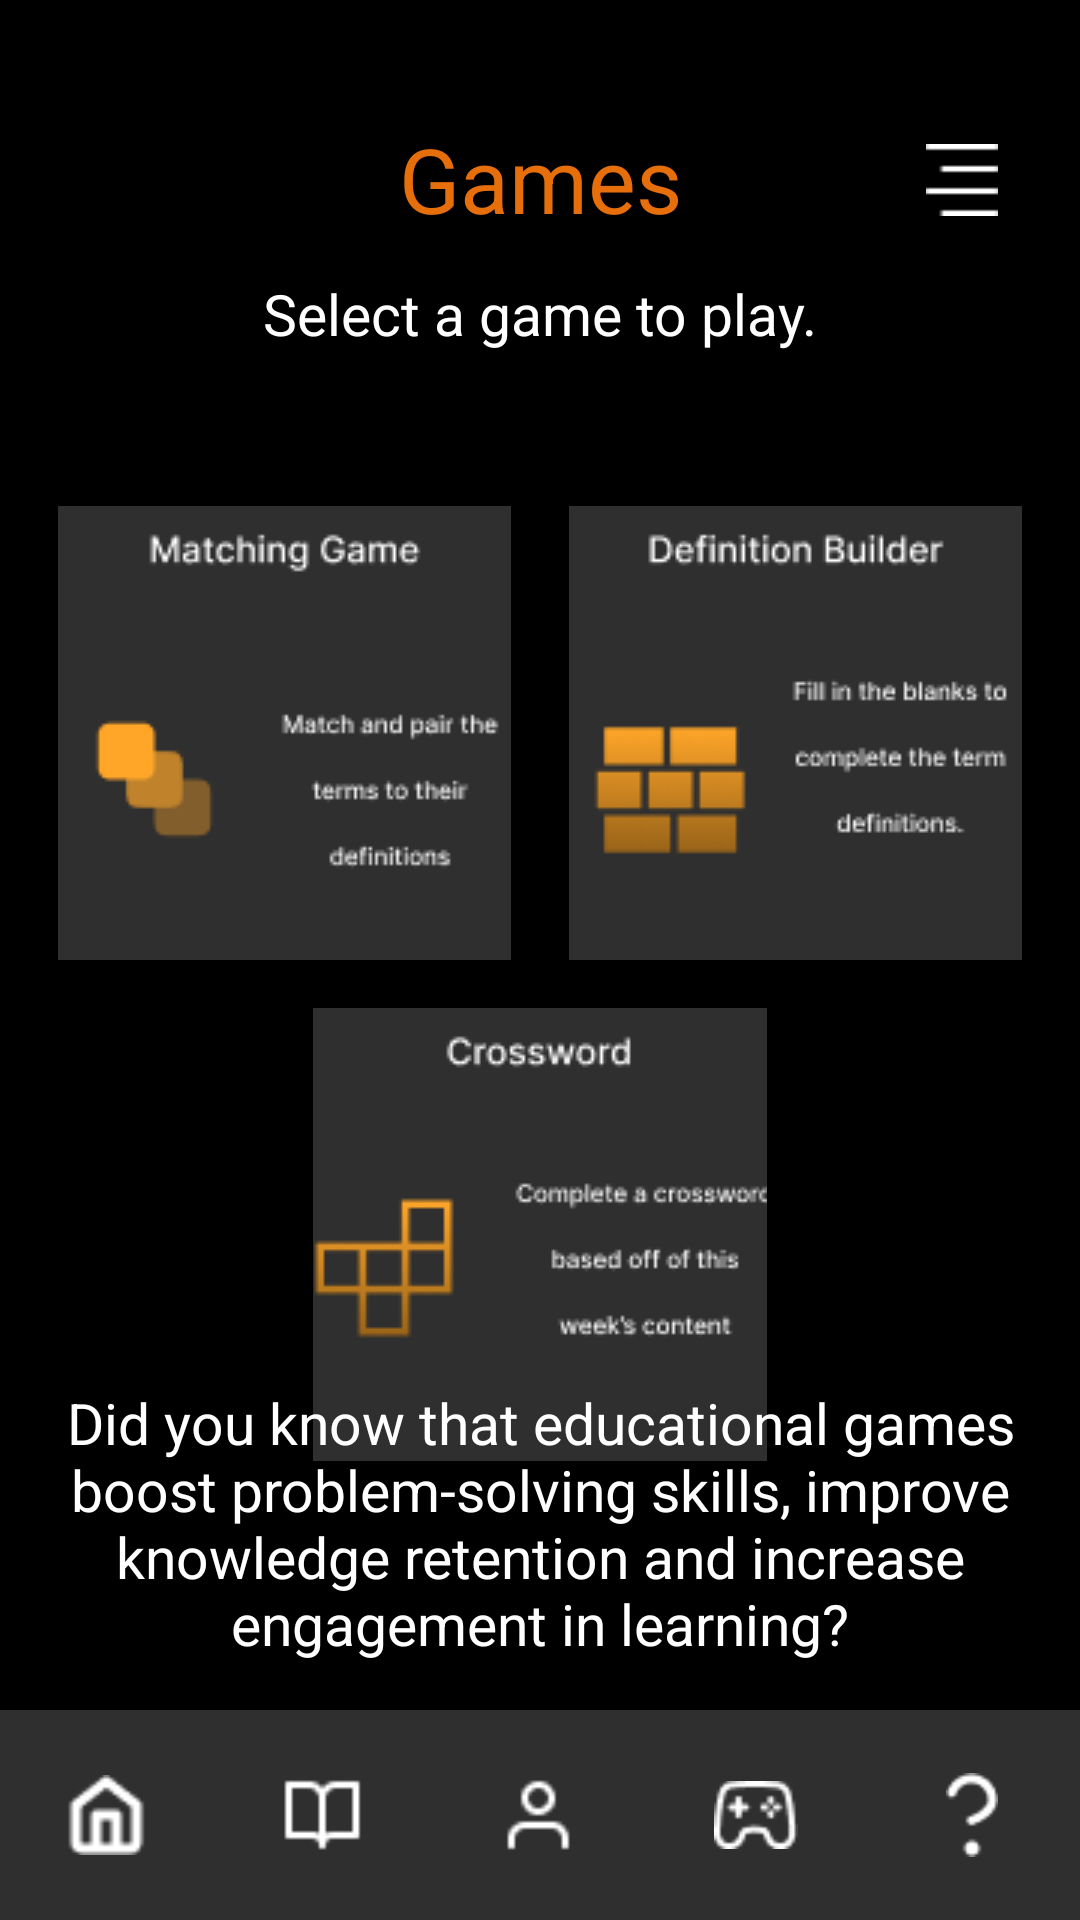

Icon bounding boxes for this 1080*1920 phone screenshot, format (x1, y1, x2, y2):
menu: (926, 144, 998, 216)
